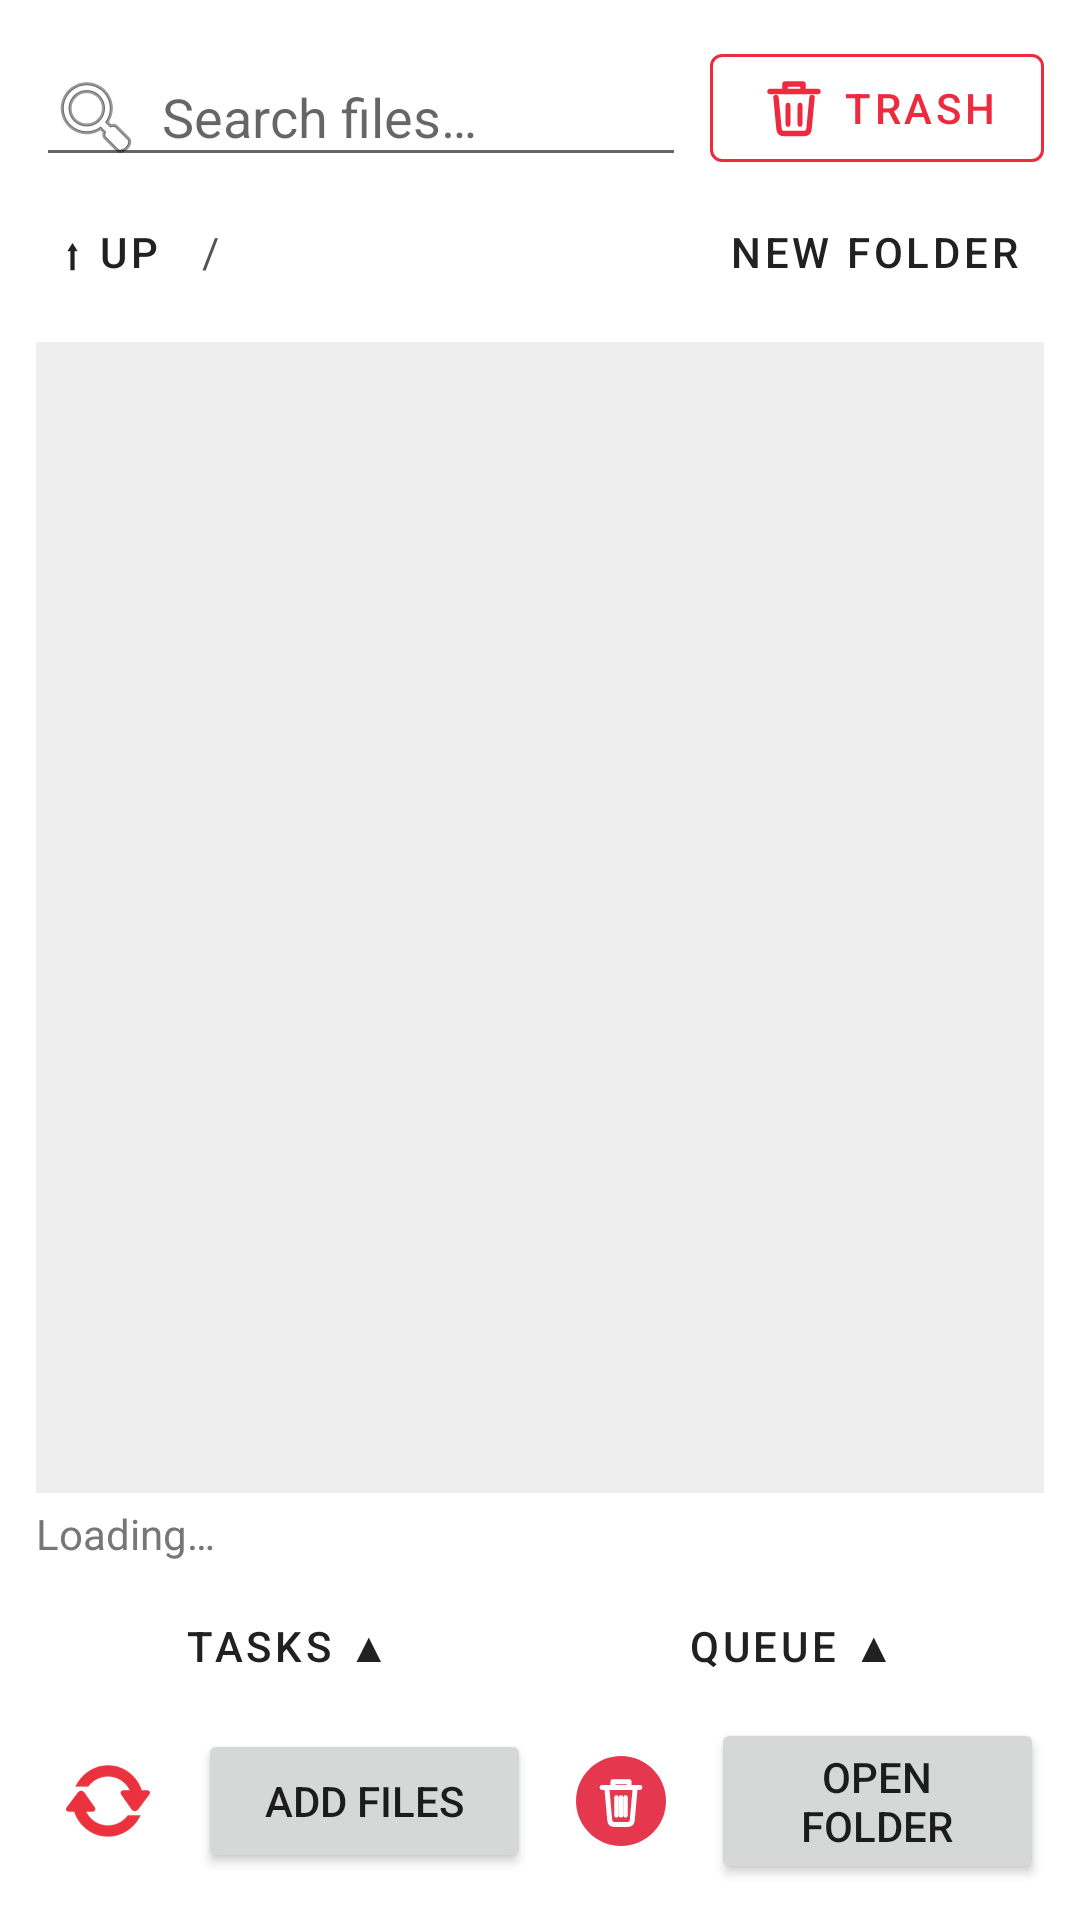

Named icons in this screenshot (1080 × 1920) and their bounding boxes, (x1, y1, x2, y2):
Delete: (576, 1756, 666, 1846)
Refresh: (66, 1765, 150, 1837)
